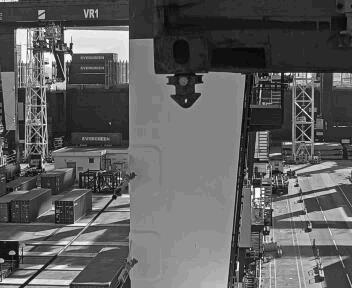twist_lock_typ_2: (166, 156, 232, 193)
